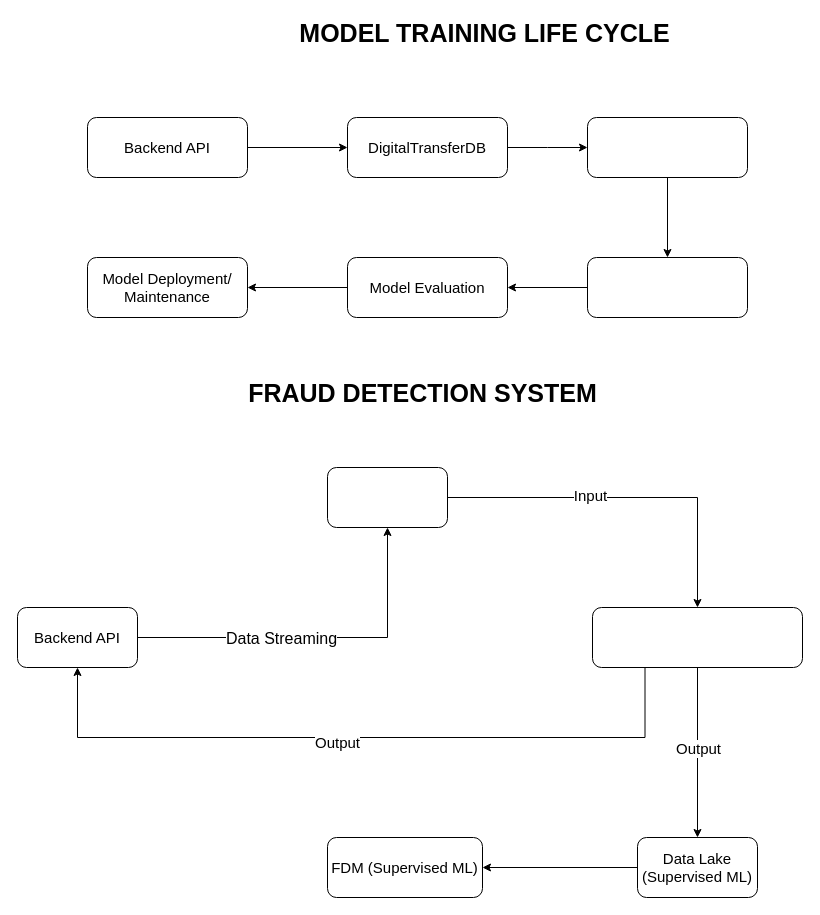
Some shapes in this 820 by 915 pixel diagram are drawn without their labels. Each missing label, with the centre of its shape:
"Data Engineering" belongs at (x=667, y=147).
"Data Transform Model" belongs at (x=387, y=497).
"FDM (Unsupervised ML)" belongs at (x=697, y=637).
"Model Training" belongs at (x=667, y=287).
